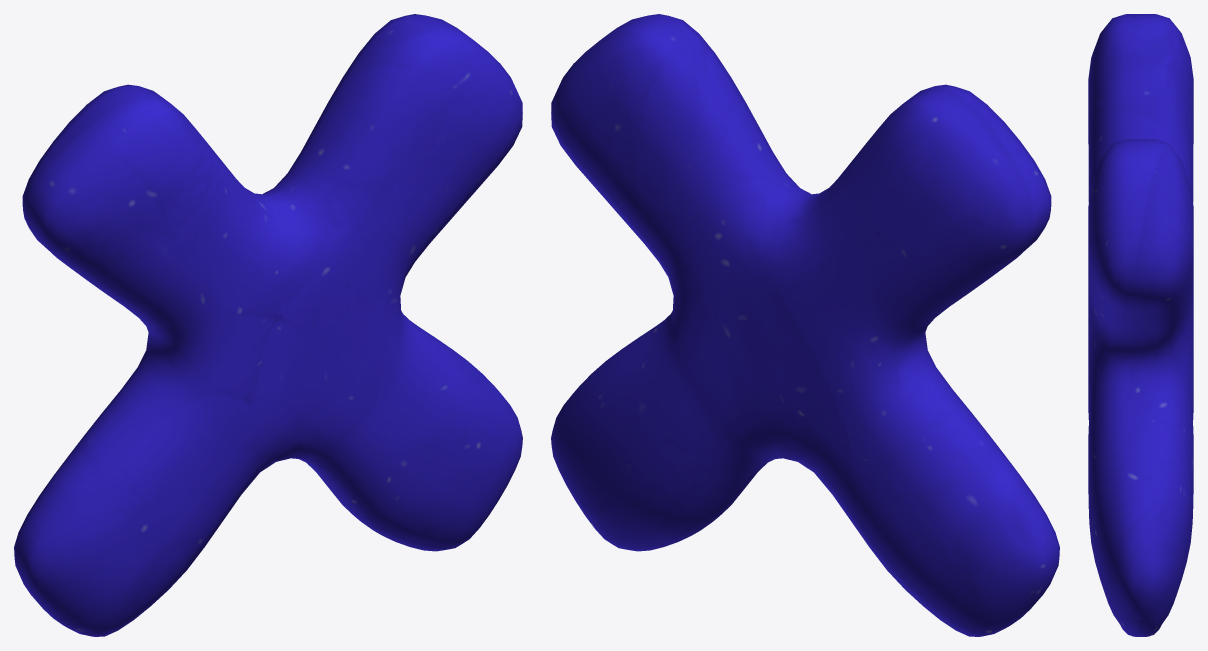
3 renders of one model, left to right at view 1: azimuth 30°, elevation 25°; view 2: azimuth 150°, elevation 25°; view 3: azimuth 270°, elevation 25°, orthographic. The views are drawn at different scales.
Visible parts, largest first — view 1: BakeX; view 2: BakeX; view 3: BakeX.
Part boxes in pixels (x1,y1,x2,y2): BakeX: [14, 14, 522, 636]; BakeX: [551, 14, 1059, 636]; BakeX: [1088, 14, 1193, 636].
Size of the model in its own units: 2.53 by 2.58 by 0.5136.
1 material, 1 textured.
